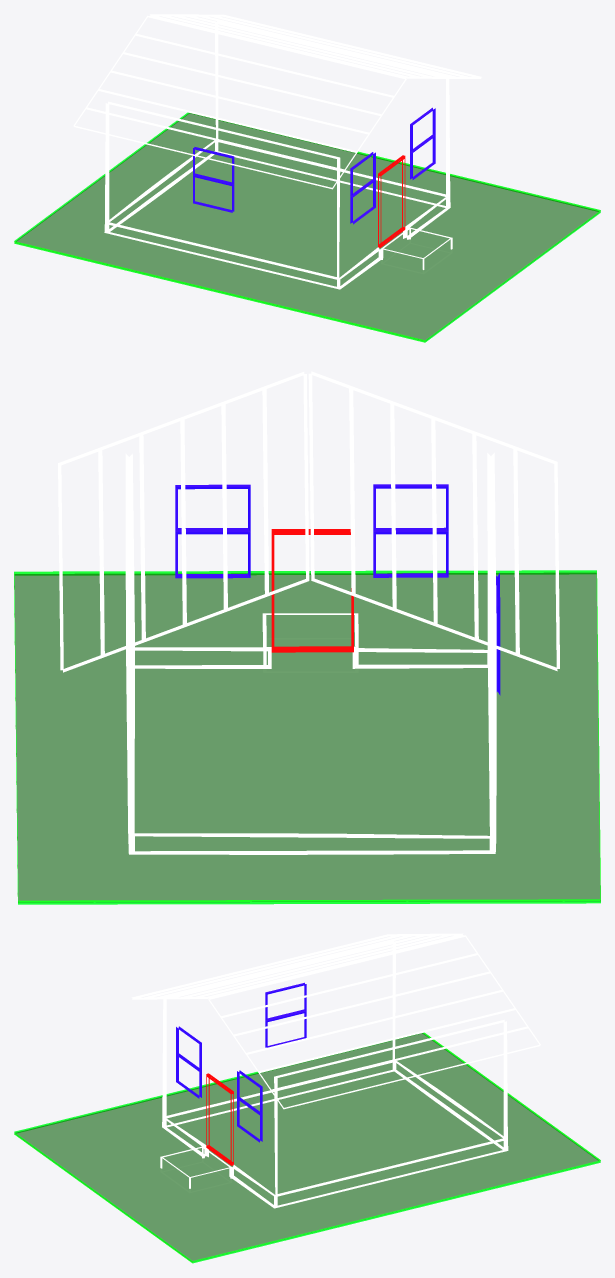
Rendered from porrfoliohome.glb.
The picture shows the model from 3 angles, top to bottom: view 1: azimuth 30°, elevation 25°; view 2: azimuth 150°, elevation 25°; view 3: azimuth 270°, elevation 25°; orthographic projection. The views are drawn at different scales.
Parts seen in each view (by area): view 1: Plane, Roof, House, Windows, WindowsR, Door, Platform; view 2: Plane, Roof, House, Windows, Door, Platform; view 3: Plane, Roof, House, Windows, Door, WindowsR, Platform.
Part boxes in pixels (x1,y1,x2,y2): Plane: [14, 112, 600, 342]; Roof: [73, 14, 481, 189]; House: [104, 21, 450, 289]; Windows: [350, 107, 435, 224]; WindowsR: [193, 147, 234, 212]; Door: [378, 155, 405, 247]; Platform: [381, 227, 452, 273]; Plane: [14, 570, 600, 904]; Roof: [58, 371, 559, 672]; House: [125, 452, 496, 854]; Windows: [175, 484, 448, 578]; Door: [271, 529, 353, 652]; Platform: [262, 613, 358, 672]; Plane: [14, 1032, 600, 1263]; Roof: [131, 933, 540, 1109]; House: [162, 941, 508, 1208]; Windows: [176, 1026, 262, 1142]; Door: [206, 1073, 233, 1165]; WindowsR: [265, 982, 306, 1047]; Platform: [160, 1146, 232, 1192].
Bounding box in the file's own units: 8.74 × 3.15 × 9.43.
